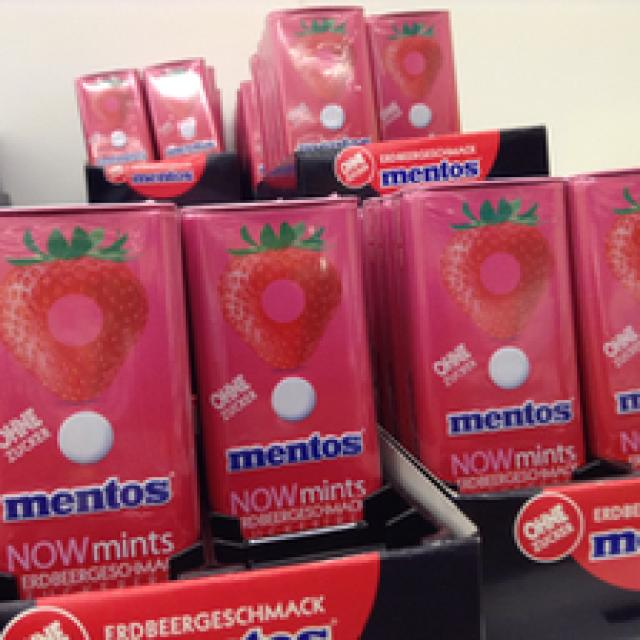groceries: (0, 200, 191, 585), (183, 194, 388, 546), (409, 174, 580, 492), (269, 3, 380, 151), (360, 9, 460, 137), (140, 54, 223, 160), (75, 63, 152, 166)
